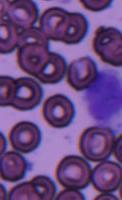L: (82, 68, 122, 125)
